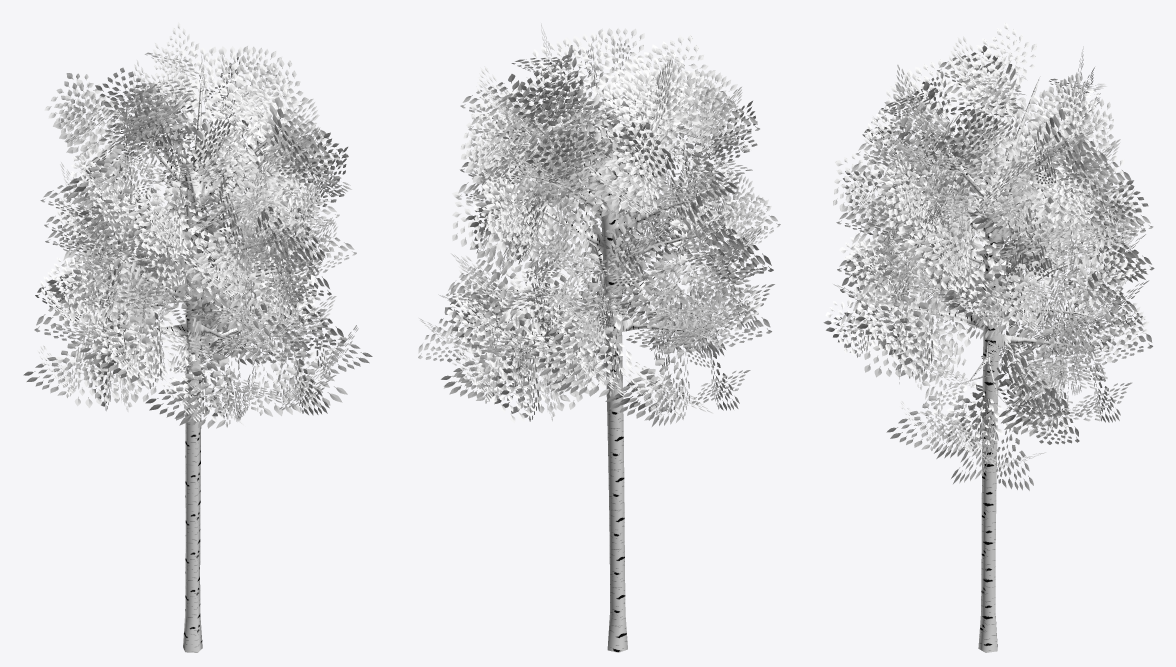
File: Birch_LOD0_P3180_B2480_L700_v02.fbx
3 renders of one model, left to right at view 1: azimuth 30°, elevation 25°; view 2: azimuth 150°, elevation 25°; view 3: azimuth 270°, elevation 25°, orthographic. The views are drawn at different scales.
Visible parts, largest first — view 1: leafclumpatlas_birch_1, birchbarktextureseamless_0; view 2: leafclumpatlas_birch_1, birchbarktextureseamless_0; view 3: leafclumpatlas_birch_1, birchbarktextureseamless_0.
Boxes of the visible parts, x1,y1,x2,y2 form: leafclumpatlas_birch_1: [23, 22, 372, 428]; birchbarktextureseamless_0: [83, 78, 313, 652]; leafclumpatlas_birch_1: [418, 23, 780, 426]; birchbarktextureseamless_0: [491, 75, 732, 652]; leafclumpatlas_birch_1: [823, 22, 1154, 490]; birchbarktextureseamless_0: [877, 77, 1105, 652].
Bounding box in the file's own units: 752 × 1365 × 709.
